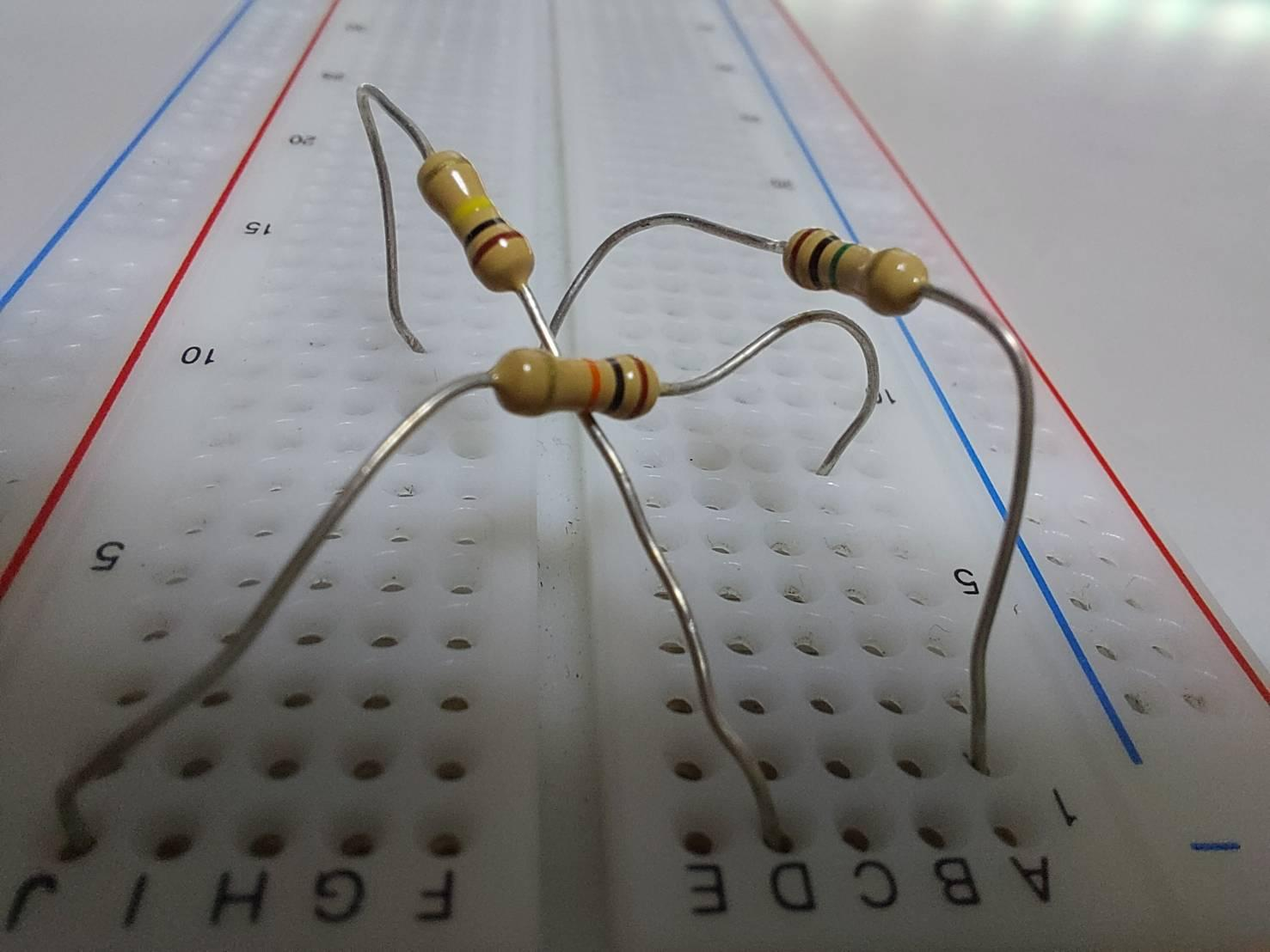resistor: (406, 149, 551, 295), (776, 211, 953, 320), (495, 340, 660, 423)
